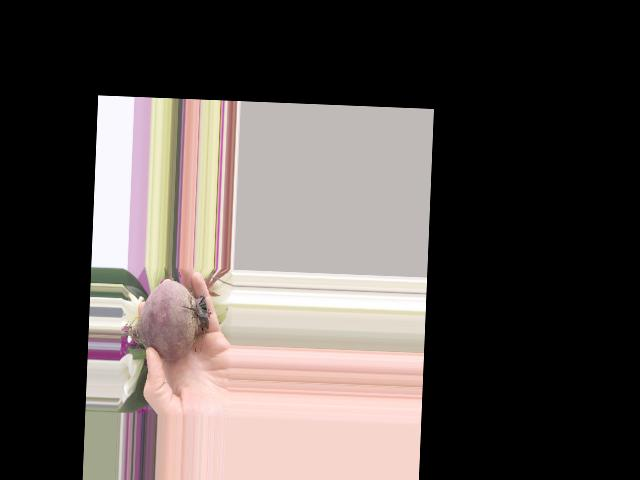beet: (119, 278, 214, 361)
